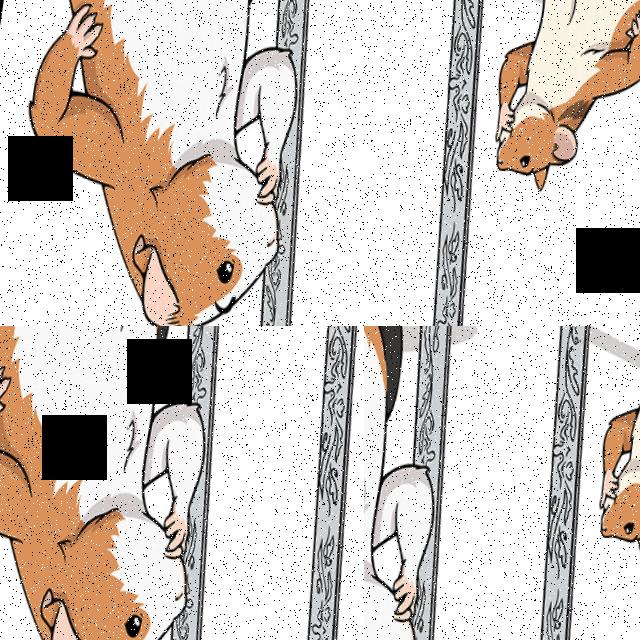hamster: (364, 0, 597, 326), (101, 326, 364, 544), (364, 326, 479, 640), (283, 22, 364, 306), (589, 326, 640, 578)
